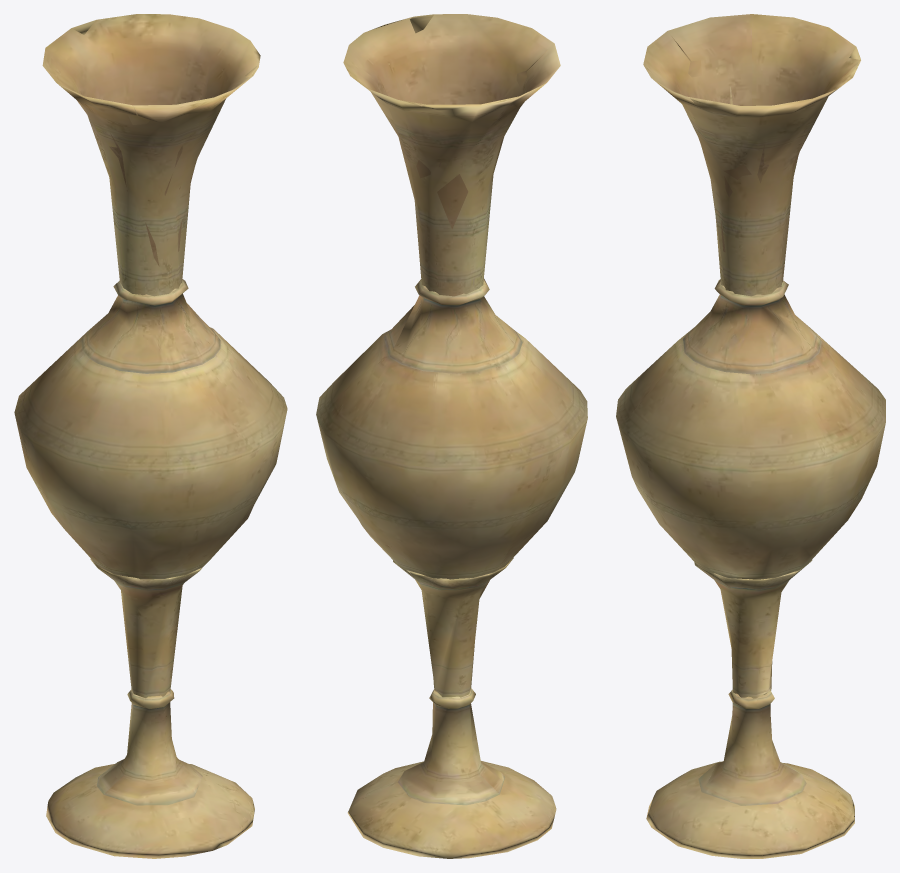
The model's file is brass_vase_01.glb.
3 renders of one model, left to right at view 1: azimuth 30°, elevation 25°; view 2: azimuth 150°, elevation 25°; view 3: azimuth 270°, elevation 25°, orthographic.
Parts seen in each view (by area): view 1: brass_vase_01; view 2: brass_vase_01; view 3: brass_vase_01.
Part boxes in pixels (x1,y1,x2,y2): brass_vase_01: [14, 14, 287, 858]; brass_vase_01: [316, 14, 587, 858]; brass_vase_01: [616, 14, 885, 858].
Bounding box in the file's own units: 0.2273 × 0.6925 × 0.2245.
1 material, 1 textured.
